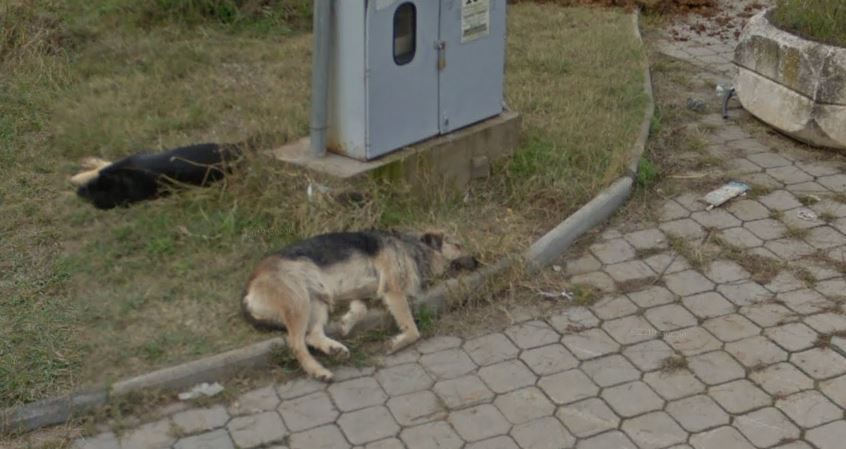trash: (695, 166, 761, 213)
